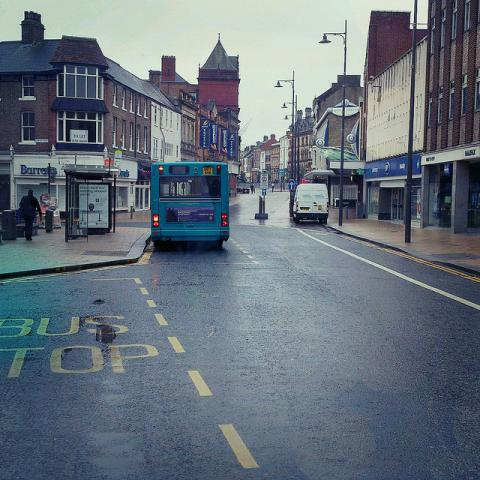bus: (151, 159, 229, 249)
truck: (290, 184, 330, 224)
